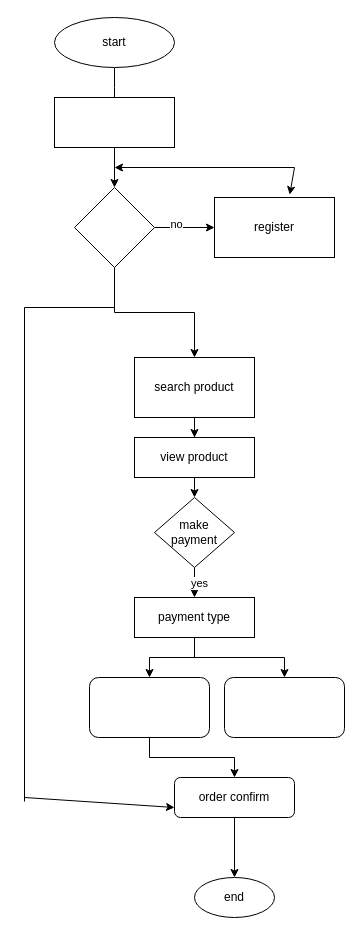
This 362x935 diagram has some shape labels left out. The box of each missing label's shape, as (x1, y1, x2, y2) in pixels:
cash on delivery: (224, 676, 344, 738)
login: (74, 186, 154, 268)
online payment: (88, 676, 210, 738)
user: (54, 96, 174, 148)
